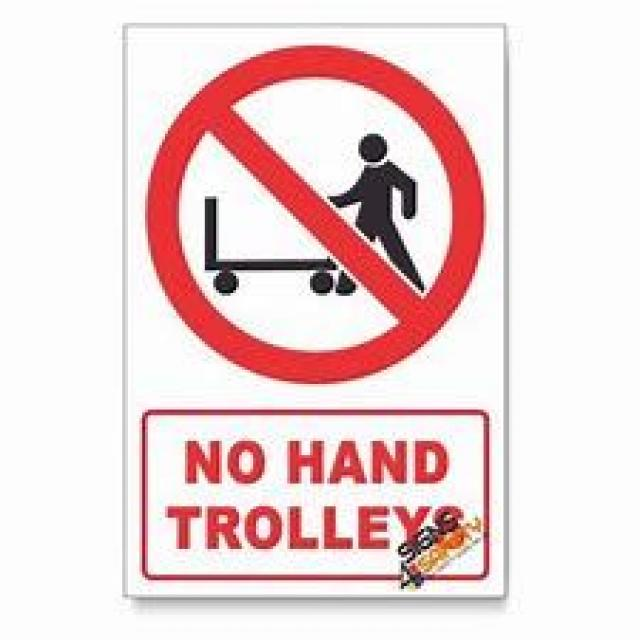HANDCART_PROHIBITED: (145, 40, 484, 381)
